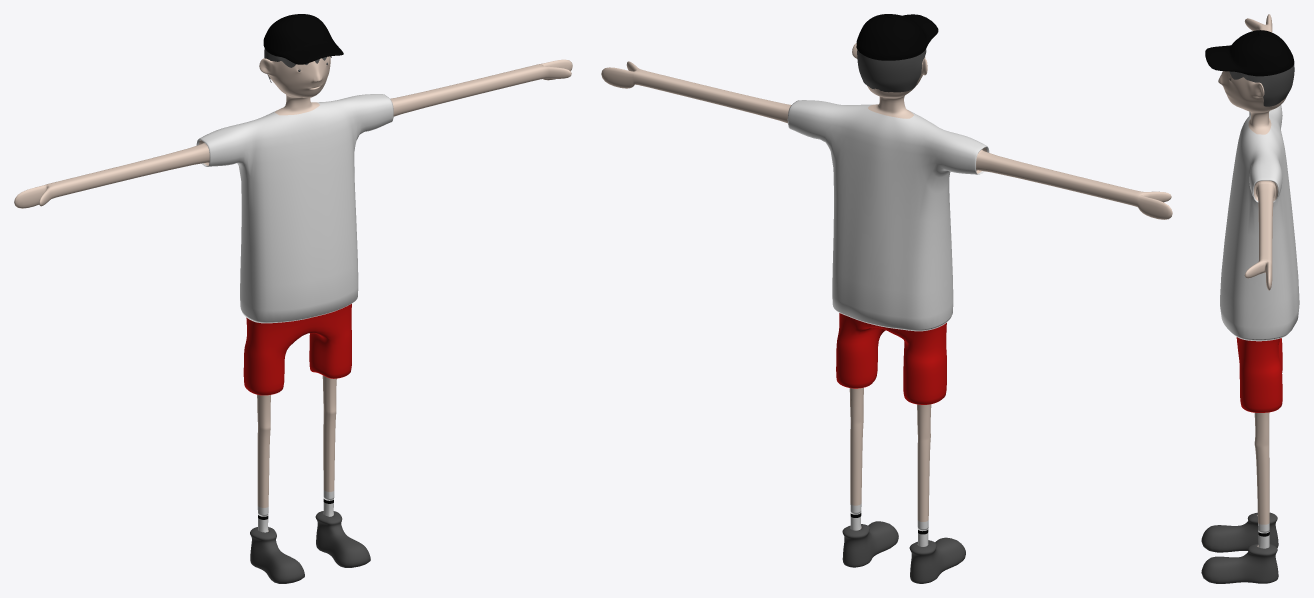
Rendered from main_caracther.fbx.
3 views of the same model, side by side, from view 1: azimuth 30°, elevation 25°; view 2: azimuth 150°, elevation 25°; view 3: azimuth 270°, elevation 25° (orthographic). The views are drawn at different scales.
Visible parts, largest first — view 1: Plane; view 2: Plane; view 3: Plane.
Part boxes in pixels (x1,y1,x2,y2): Plane: (14,14,572,583); Plane: (601,14,1172,583); Plane: (1201,14,1299,583).
Size of the model in its own units: 2998 by 2778 by 465.
